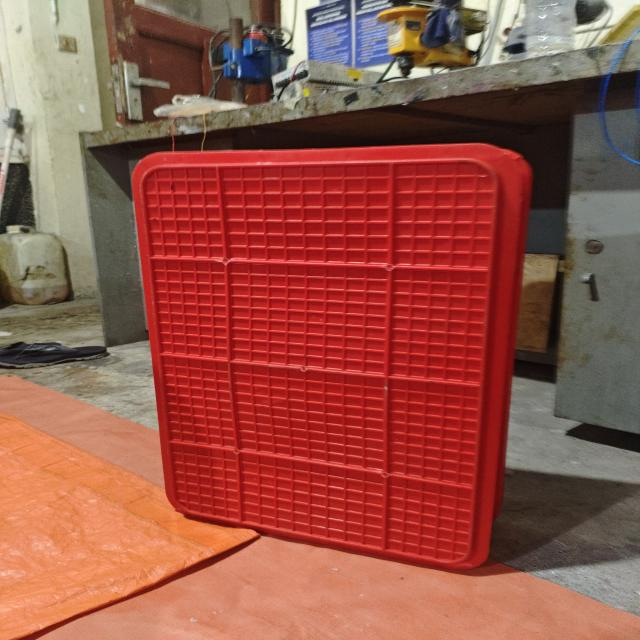red plastic box: (132, 142, 532, 570)
